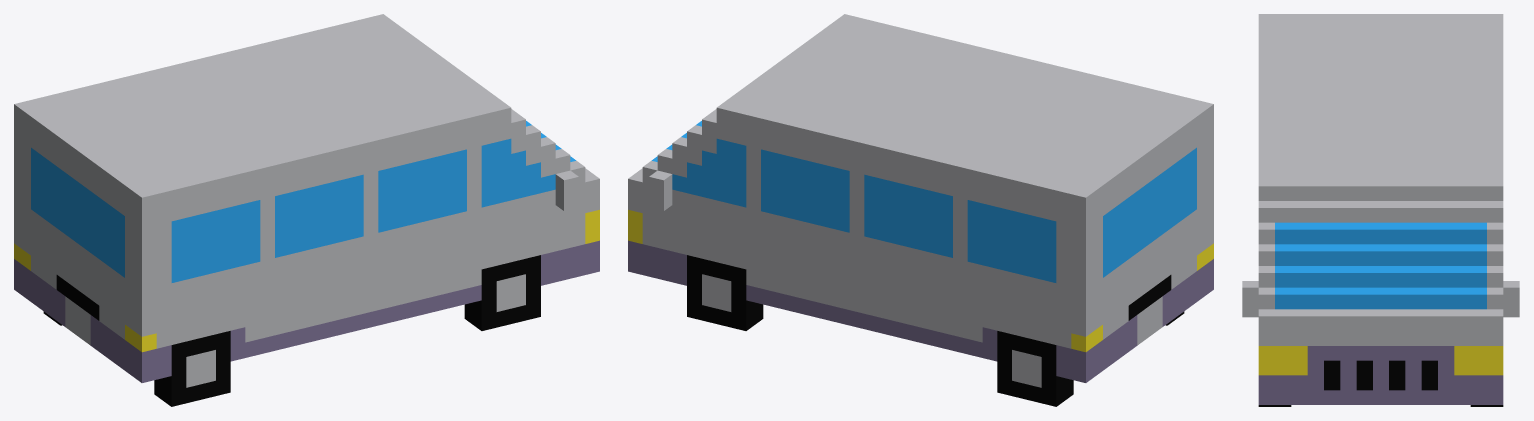
The model's file is van_d.obj.
The picture shows the model from 3 angles, left to right: view 1: azimuth 30°, elevation 25°; view 2: azimuth 150°, elevation 25°; view 3: azimuth 270°, elevation 25°; orthographic projection. The views are drawn at different scales.
Bounding box in the file's own units: 3.1 × 1.4 × 1.7.
1 material, 1 textured.
